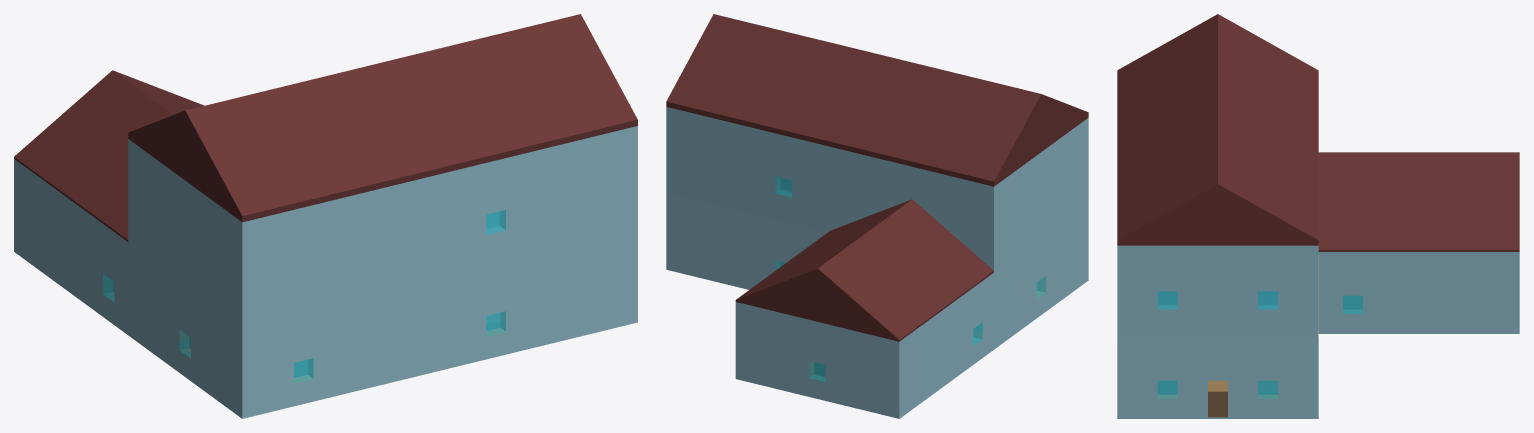
File: House2g.fbx
3 views of the same model, side by side, from view 1: azimuth 30°, elevation 25°; view 2: azimuth 150°, elevation 25°; view 3: azimuth 270°, elevation 25° (orthographic). The views are drawn at different scales.
Visible parts, largest first — view 1: RoofBig, Building, RoofSmall; view 2: RoofBig, Building, RoofSmall; view 3: RoofBig, Building, RoofSmall, WindowGlass10, WindowGlass11, WindowGlass1, WindowGlass2, WindowGlass8.
Part boxes in pixels (left/top/right/bottom): RoofBig: left=128, top=14, right=637, bottom=325; Building: left=14, top=159, right=637, bottom=418; RoofSmall: left=14, top=70, right=204, bottom=241; RoofBig: left=666, top=14, right=1088, bottom=272; Building: left=666, top=192, right=1088, bottom=418; RoofSmall: left=735, top=199, right=993, bottom=341; RoofBig: left=1117, top=14, right=1318, bottom=336; Building: left=1117, top=252, right=1519, bottom=418; RoofSmall: left=1318, top=152, right=1519, bottom=251; WindowGlass10: left=1258, top=291, right=1278, bottom=309; WindowGlass11: left=1157, top=291, right=1177, bottom=309; WindowGlass1: left=1258, top=380, right=1278, bottom=398; WindowGlass2: left=1157, top=380, right=1177, bottom=398; WindowGlass8: left=1343, top=295, right=1362, bottom=313.
Bounding box in the file's own units: 4000 × 2578 × 4000.
